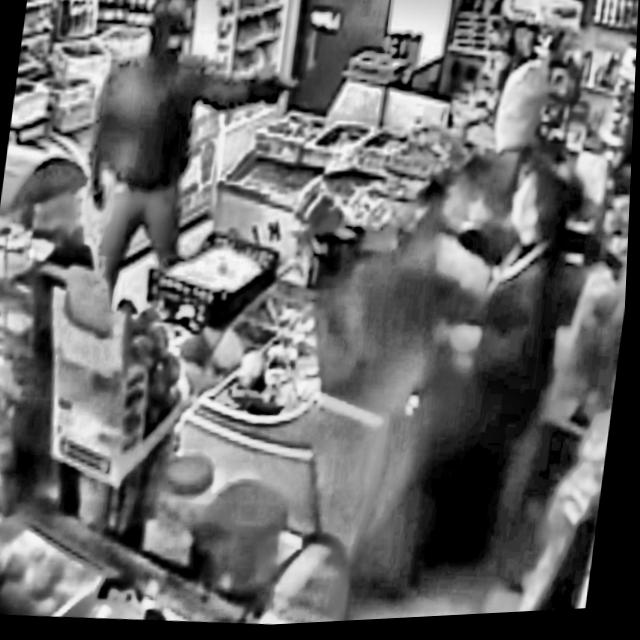robbery: (70, 0, 308, 339)
